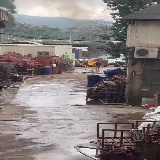fire: (86, 61, 97, 65)
